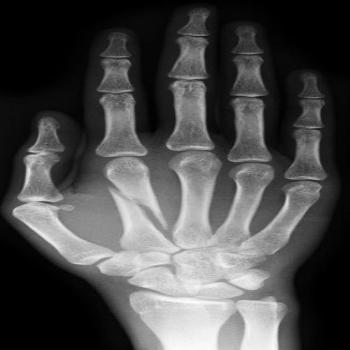Fracture: (100, 177, 176, 232)
